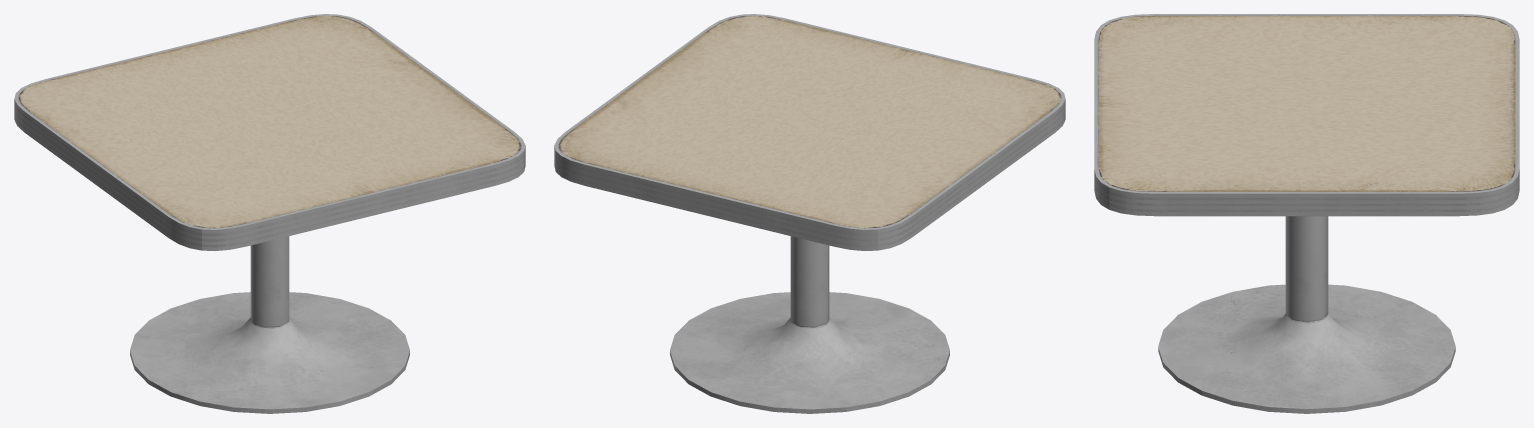
Rendered from TableSquare.FBX.
3 renders of one model, left to right at view 1: azimuth 30°, elevation 25°; view 2: azimuth 150°, elevation 25°; view 3: azimuth 270°, elevation 25°, orthographic. The views are drawn at different scales.
Parts seen in each view (by area): view 1: TableSquare_LOD0; view 2: TableSquare_LOD0; view 3: TableSquare_LOD0.
Boxes of the visible parts, x1,y1,x2,y2 form: TableSquare_LOD0: [14, 14, 525, 413]; TableSquare_LOD0: [554, 14, 1065, 413]; TableSquare_LOD0: [1094, 14, 1519, 413].
Size of what is drawn, in the model's own units: 120 by 77 by 120.
